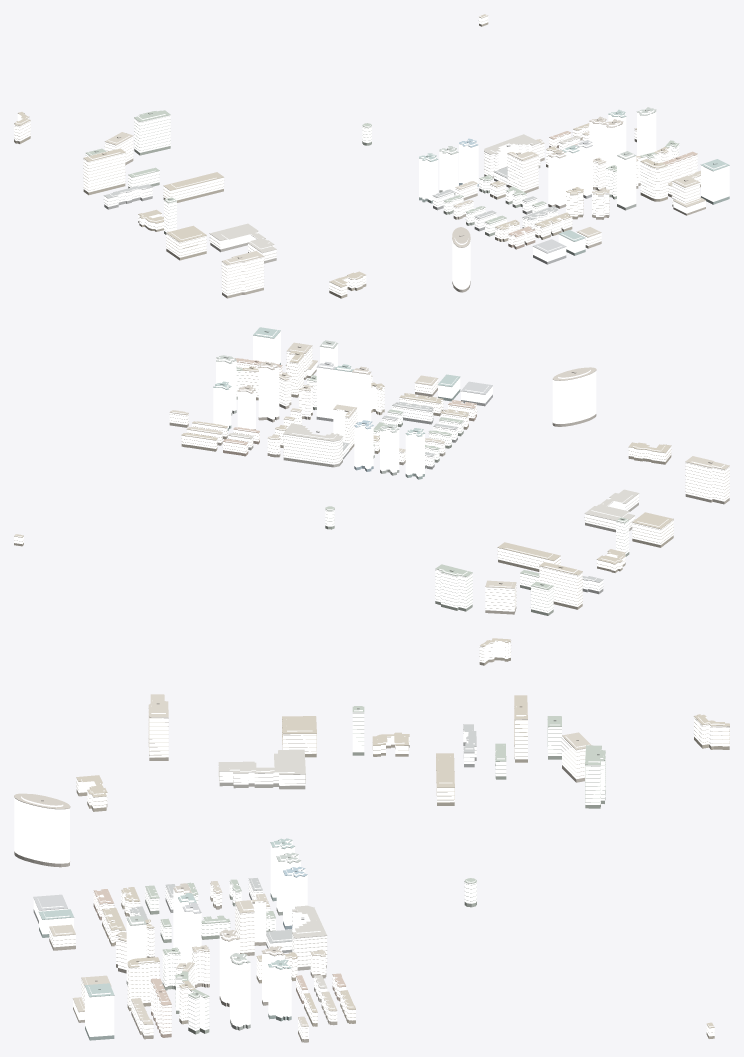
Rendered from buildings--3_0-fine.glb.
The picture shows the model from 3 angles, top to bottom: view 1: azimuth 30°, elevation 25°; view 2: azimuth 150°, elevation 25°; view 3: azimuth 270°, elevation 25°; orthographic projection. The views are drawn at different scales.
Visible parts, largest first — view 1: block_-3_0_residential, block_-3_0_office, block_-3_0_roof, block_-3_0_darkglass, block_-3_0_concrete; view 2: block_-3_0_residential, block_-3_0_office, block_-3_0_roof, block_-3_0_darkglass, block_-3_0_concrete; view 3: block_-3_0_residential, block_-3_0_roof, block_-3_0_office, block_-3_0_darkglass, block_-3_0_concrete.
Boxes of the visible parts, left/top/right/bottom form: block_-3_0_residential: left=14, top=15, right=700, bottom=295; block_-3_0_office: left=419, top=109, right=729, bottom=289; block_-3_0_roof: left=14, top=14, right=729, bottom=294; block_-3_0_darkglass: left=14, top=22, right=729, bottom=298; block_-3_0_concrete: left=14, top=16, right=700, bottom=293; block_-3_0_residential: left=14, top=346, right=729, bottom=662; block_-3_0_office: left=213, top=330, right=596, bottom=476; block_-3_0_roof: left=14, top=327, right=729, bottom=660; block_-3_0_darkglass: left=14, top=363, right=729, bottom=665; block_-3_0_concrete: left=14, top=346, right=729, bottom=660; block_-3_0_residential: left=49, top=700, right=729, bottom=1039; block_-3_0_roof: left=14, top=694, right=729, bottom=1039; block_-3_0_office: left=14, top=796, right=307, bottom=1036; block_-3_0_darkglass: left=14, top=737, right=729, bottom=1042; block_-3_0_concrete: left=50, top=712, right=729, bottom=1036.
Size of the model in its own units: 651 by 68.47 by 646.
